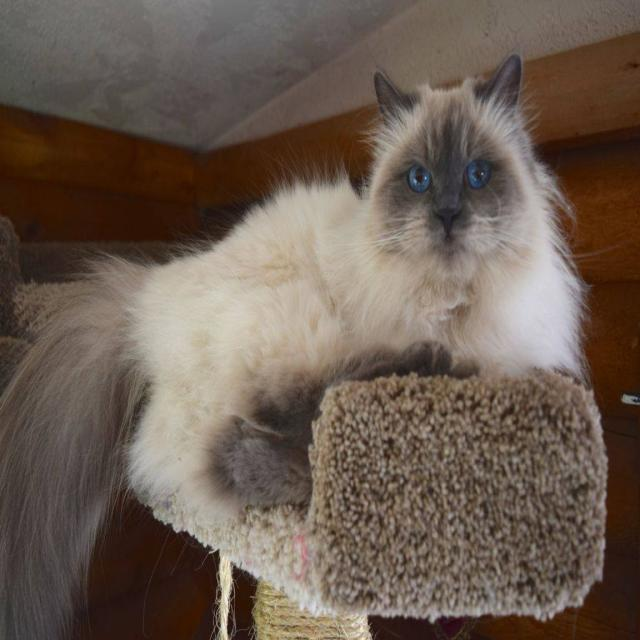Neva Masquerade: (0, 46, 591, 640)
